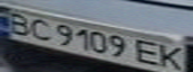0: (87, 29, 109, 55)
1: (69, 26, 93, 52)
9: (106, 32, 133, 61), (51, 20, 75, 47)
B: (3, 9, 36, 36)
C: (24, 15, 57, 42)
E: (133, 38, 166, 68)
K: (154, 42, 187, 71)
